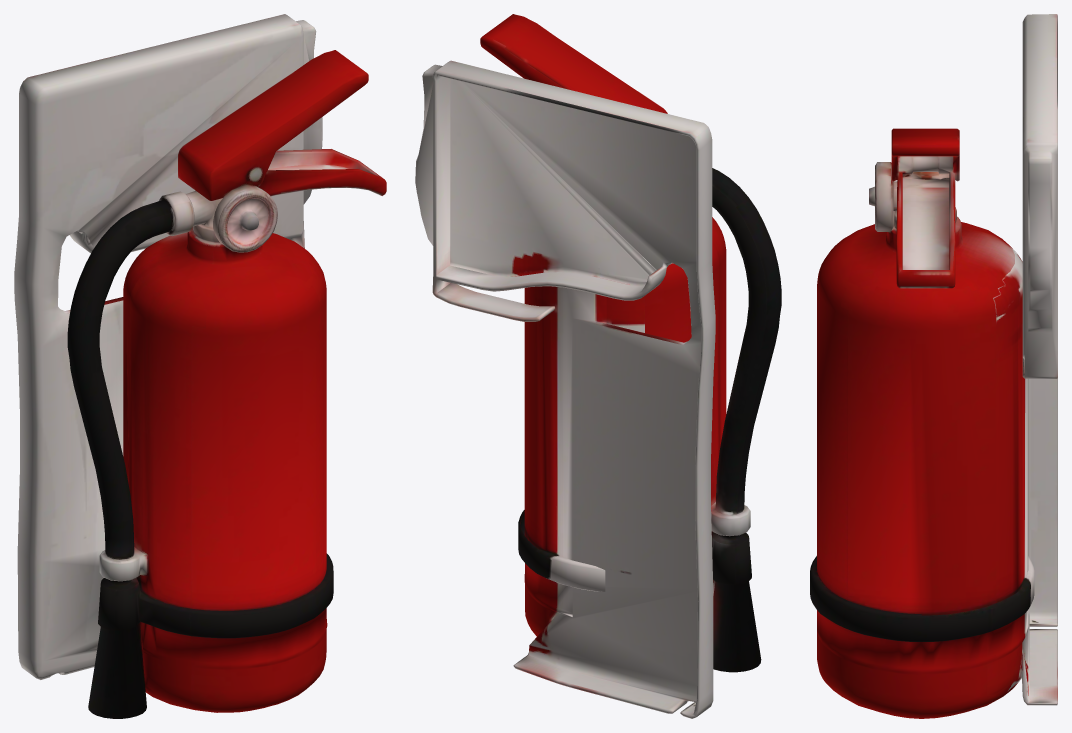
Rendered from fire_extinguisher_wall_mounted_bc0dddd4_v4.glb.
The picture shows the model from 3 angles, left to right: view 1: azimuth 30°, elevation 25°; view 2: azimuth 150°, elevation 25°; view 3: azimuth 270°, elevation 25°; orthographic projection. The views are drawn at different scales.
Visible parts, largest first — view 1: material; view 2: material; view 3: material.
Boxes of the visible parts, <box> form: material: <box>14,14,386,718</box>; material: <box>415,14,781,718</box>; material: <box>810,14,1057,718</box>.
Size of the model in its own units: 1.03 by 1.9 by 0.6991.
1 material, 1 textured.
